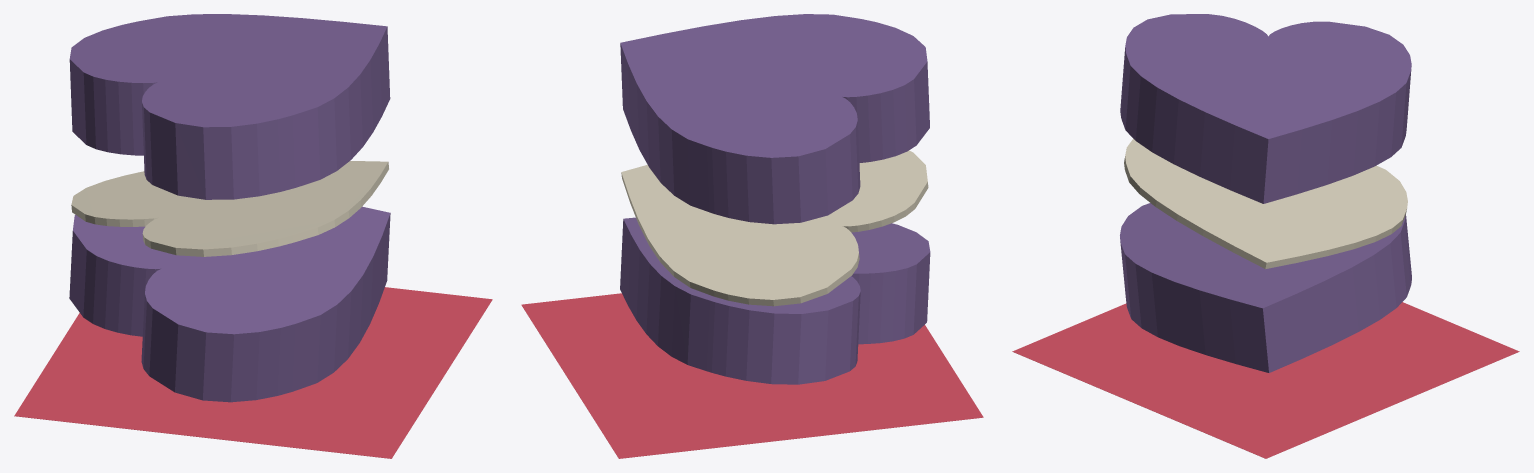
Rendered from UVU.glb.
3 renders of one model, left to right at view 1: azimuth 30°, elevation 25°; view 2: azimuth 150°, elevation 25°; view 3: azimuth 270°, elevation 25°, orthographic. The views are drawn at different scales.
Visible parts, largest first — view 1: Mesh_Mesh_head_geo.001_lambert2SG.001; view 2: Mesh_Mesh_head_geo.001_lambert2SG.001; view 3: Mesh_Mesh_head_geo.001_lambert2SG.001.
Part boxes in pixels (box(x1,y1,x2,y2)): Mesh_Mesh_head_geo.001_lambert2SG.001: box(14, 14, 492, 458); Mesh_Mesh_head_geo.001_lambert2SG.001: box(521, 14, 983, 458); Mesh_Mesh_head_geo.001_lambert2SG.001: box(1012, 14, 1519, 458).
Size of the model in its own units: 0.0354 by 0.0217 by 0.0354.
